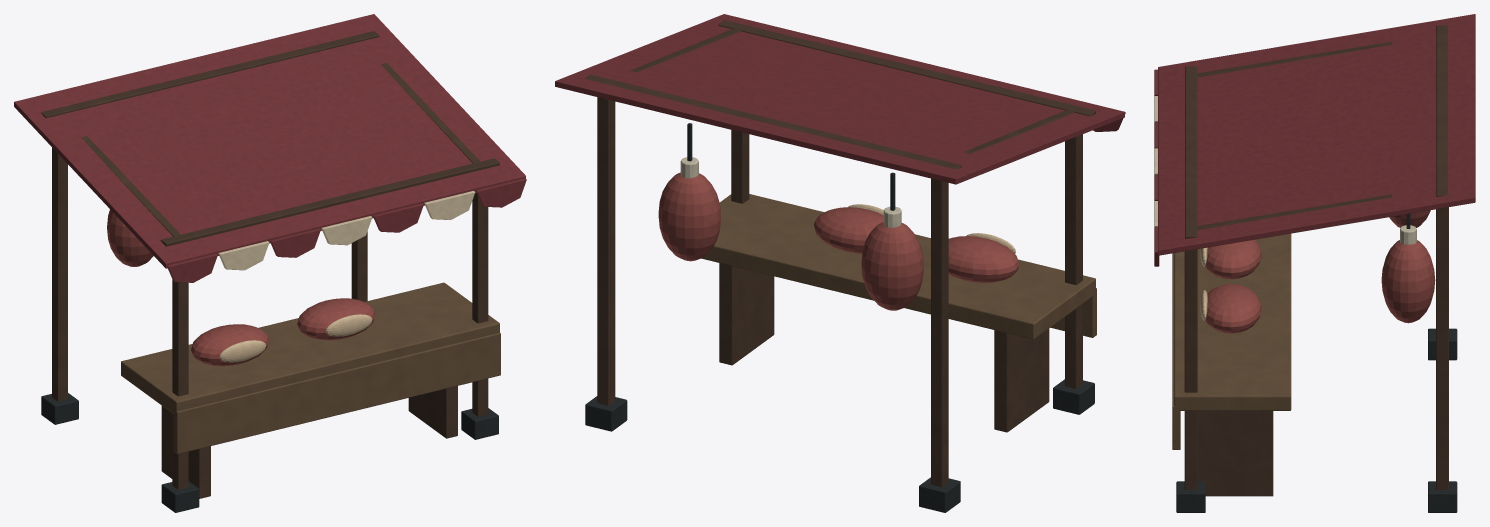
The model's file is Butcher_Stall.fbx.
The picture shows the model from 3 angles, left to right: view 1: azimuth 30°, elevation 25°; view 2: azimuth 150°, elevation 25°; view 3: azimuth 270°, elevation 25°; orthographic projection. The views are drawn at different scales.
Parts seen in each view (by area): view 1: Butcher_Stall.001; view 2: Butcher_Stall.001; view 3: Butcher_Stall.001.
Boxes of the visible parts, x1,y1,x2,y2 form: Butcher_Stall.001: (14, 14, 526, 512); Butcher_Stall.001: (555, 14, 1125, 512); Butcher_Stall.001: (1154, 14, 1475, 512).
Size of the model in its own units: 3.56 by 2.94 by 2.63.
